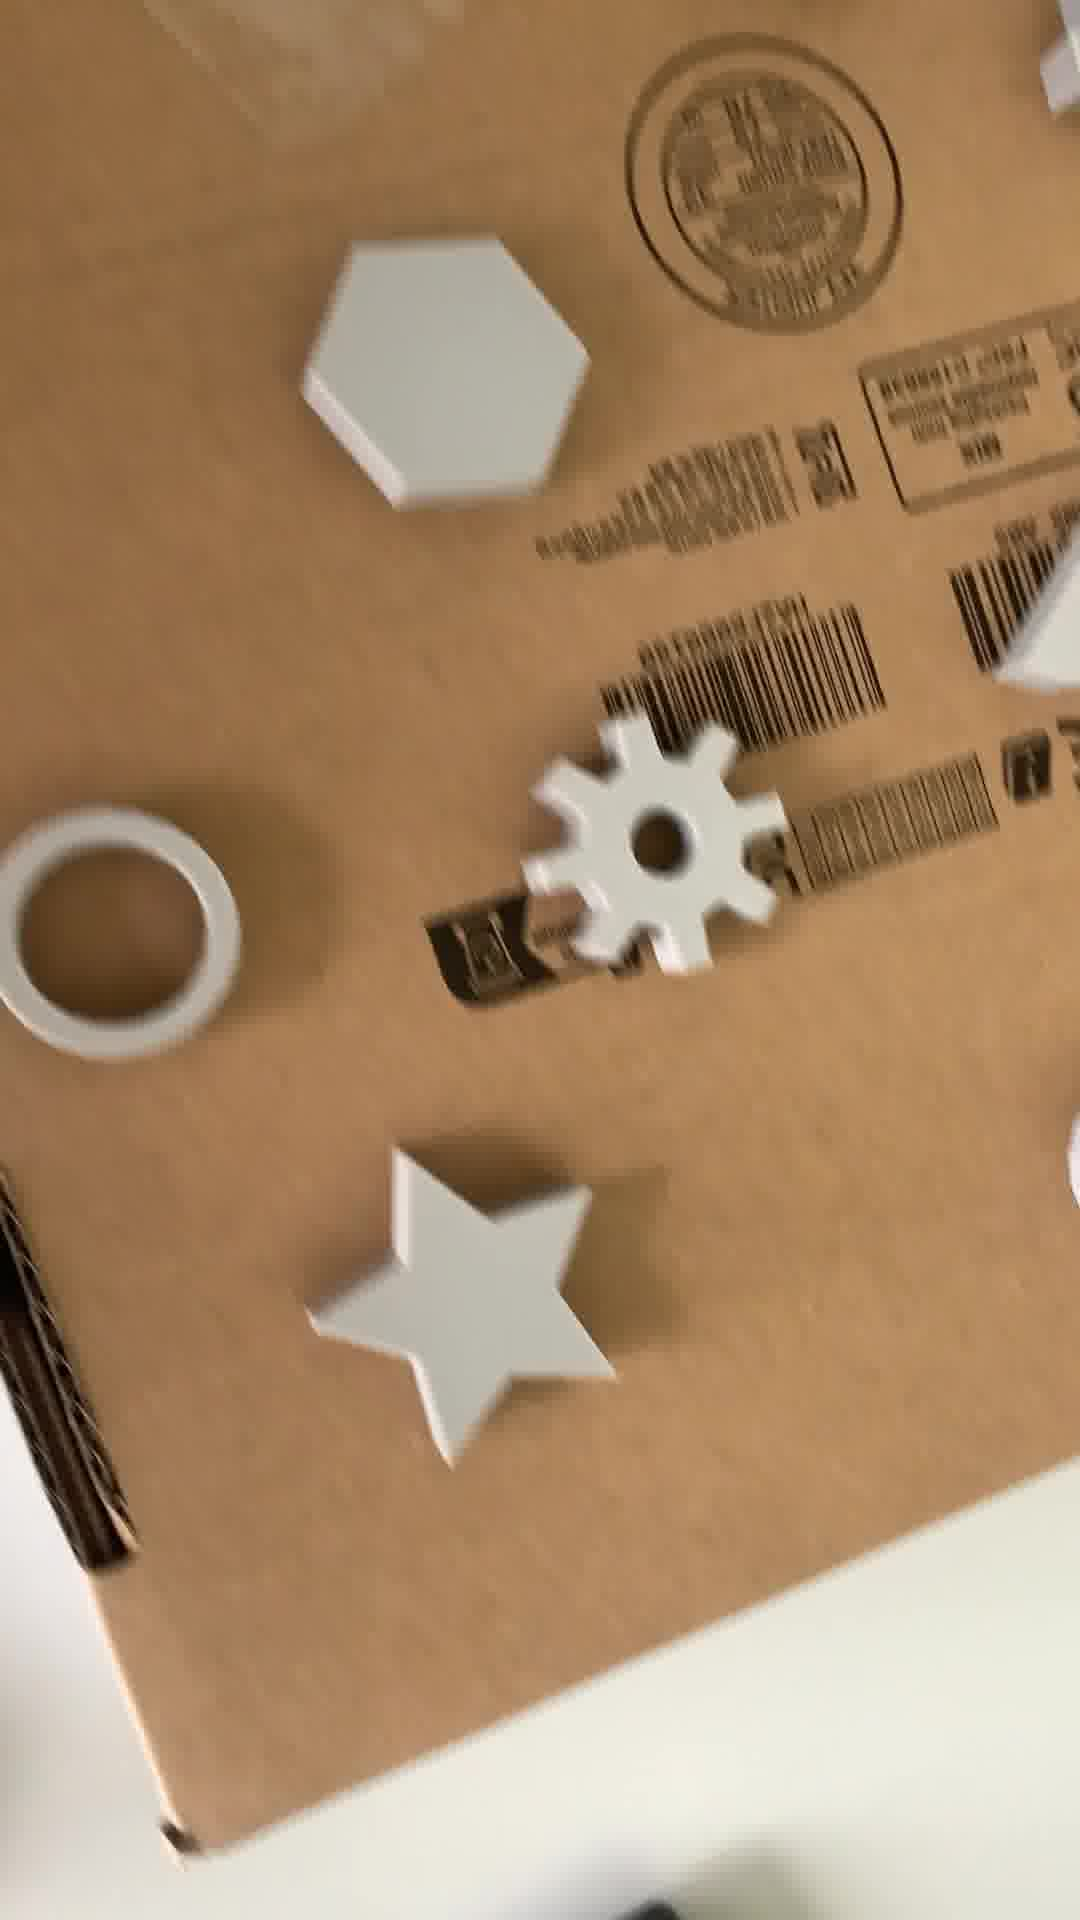Gray gear: (512, 709, 808, 984)
Gray hexagon: (295, 218, 604, 518)
Gray ring: (1, 791, 265, 1050)
Gray star: (298, 1142, 612, 1457)
